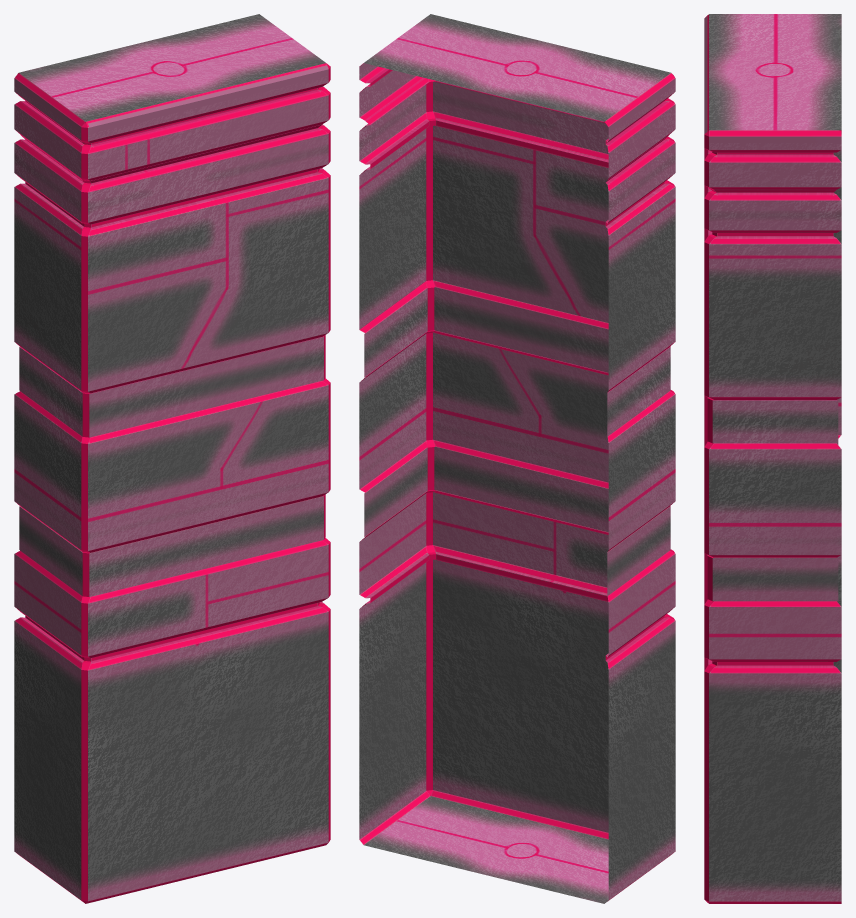
The model's file is Column_002_Large.fbx.
The picture shows the model from 3 angles, left to right: view 1: azimuth 30°, elevation 25°; view 2: azimuth 150°, elevation 25°; view 3: azimuth 270°, elevation 25°; orthographic projection.
Parts seen in each view (by area): view 1: Column_002_Large; view 2: Column_002_Large; view 3: Column_002_Large.
Boxes of the visible parts, bbox=[...] form: Column_002_Large: bbox=[14, 14, 330, 903]; Column_002_Large: bbox=[359, 14, 675, 903]; Column_002_Large: bbox=[704, 14, 841, 903].
Bounding box in the file's own units: 200 × 600 × 96.6.
